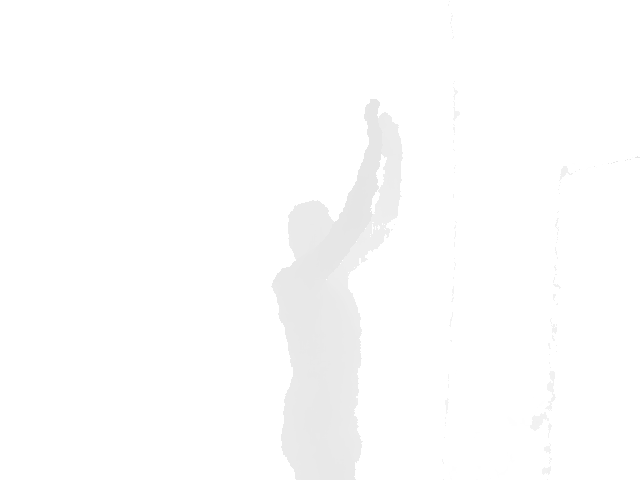hand: (374, 113, 405, 163), (363, 97, 385, 155)
head: (286, 201, 345, 262)
person: (269, 96, 404, 479)
